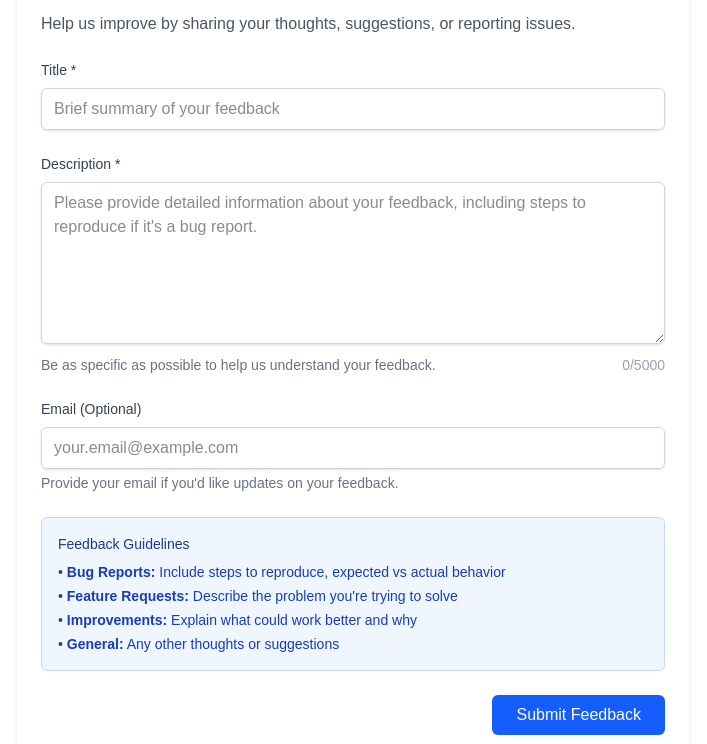
Scenario: FeedbackForm › shows validation errors for empty required fields
(page scrolled)
Click the button "Submit Feedback": (579, 715) [492, 695, 665, 735]
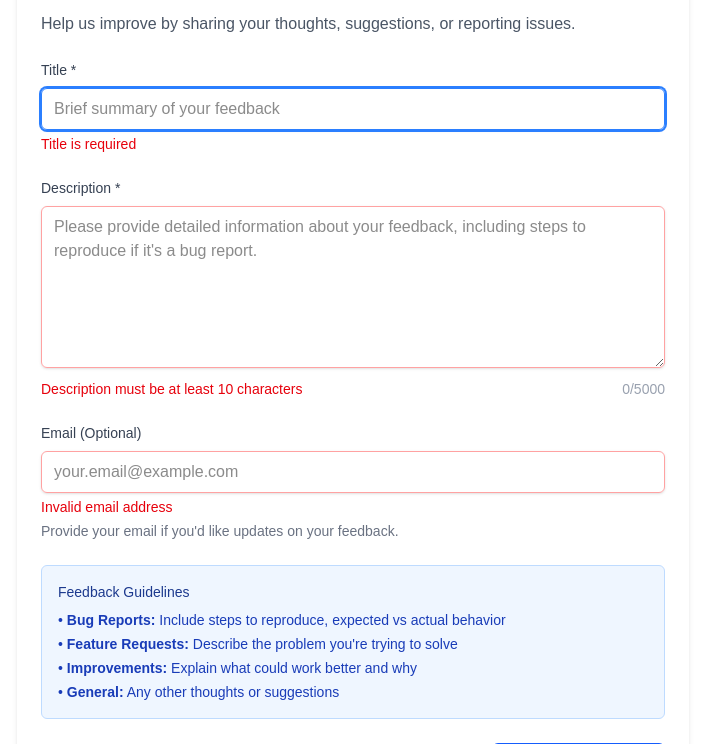
Now the text "Title is required" is shown, box [41, 136, 136, 152]
